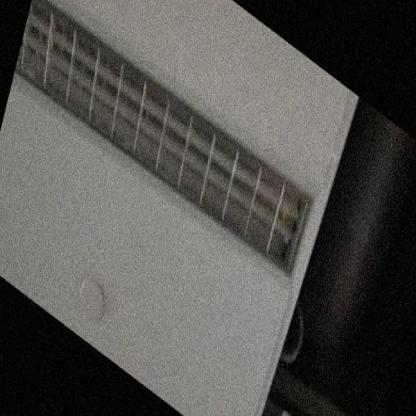light_off: (9, 0, 328, 317)
